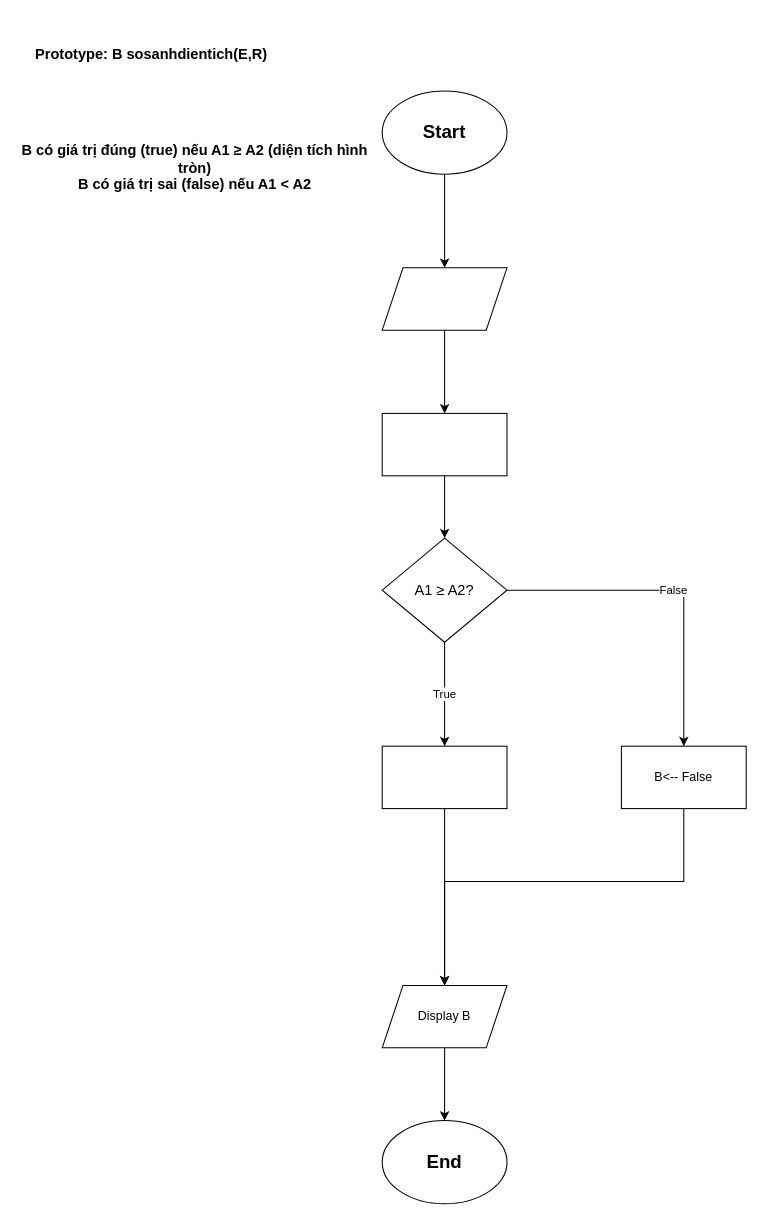
The diagram is 764 pixels wide and 1222 high, and some of its shapes have lost their labels. Each missing label, with the box of its shape:
A1=E*E A2=3.14*R*R: (381, 412, 507, 476)
B<-- True: (381, 745, 507, 809)
Input E,R: (381, 267, 507, 330)
